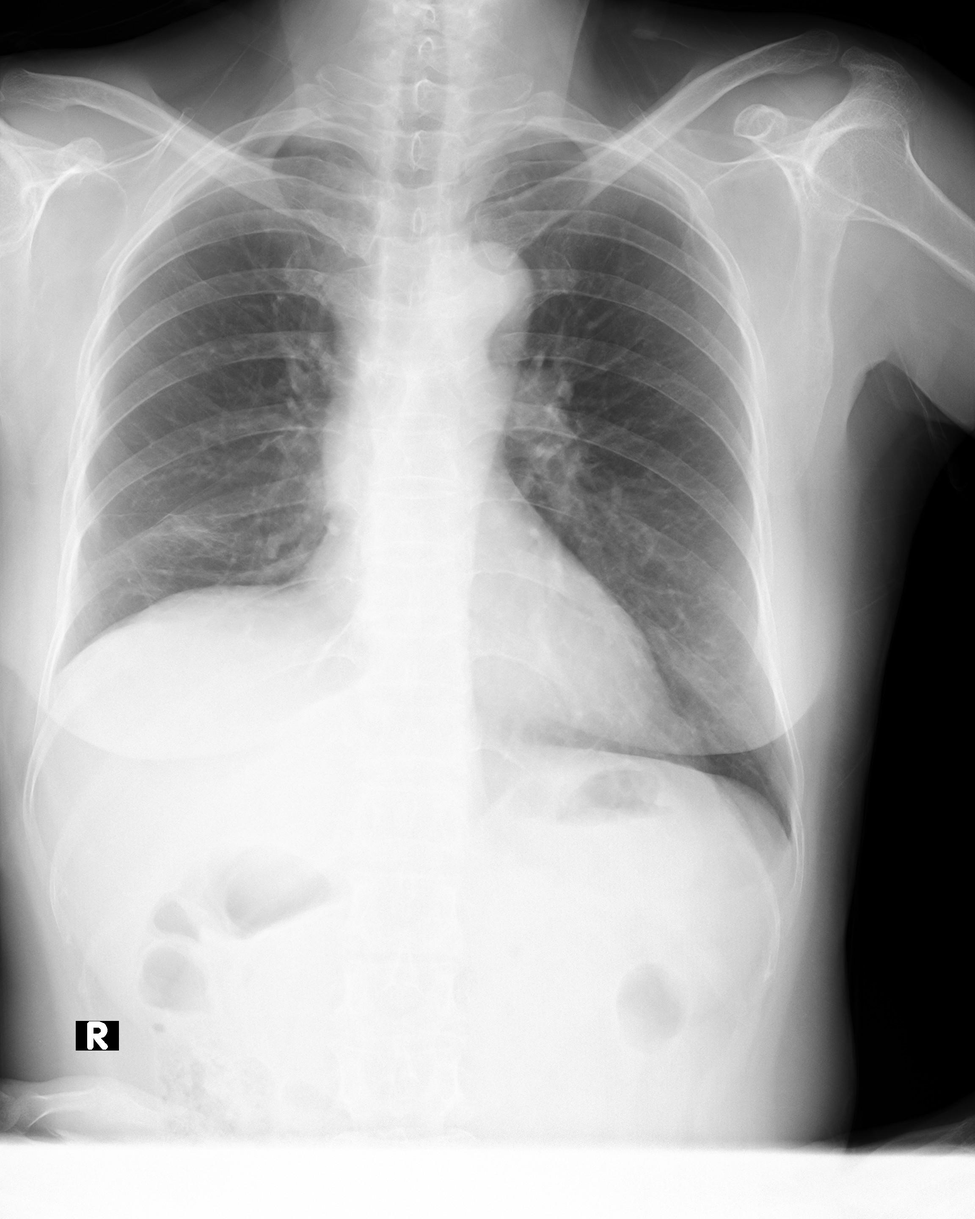Aortic enlargement: (422, 238, 534, 375)
Cardiomegaly: (299, 538, 674, 757)
Pleural thickening: (242, 134, 344, 151)
Pulmonary fibrosis: (90, 505, 249, 603)
